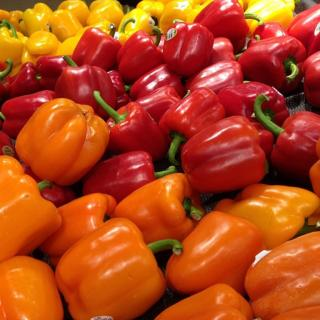Bell pepper: (0, 0, 319, 319), (21, 96, 113, 186)
